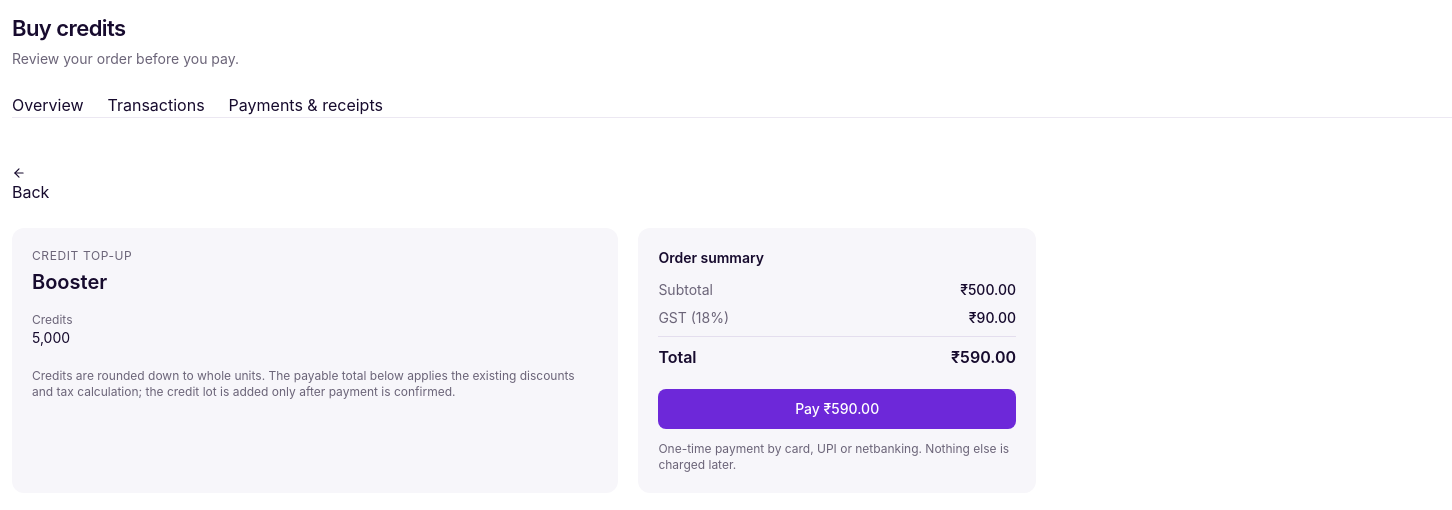
Test case: Checkout › top-up success says how many credits were added
Expected: the element with test id "checkout-totals" is shown, [638, 228, 1036, 493]
Click the button "Pay ₹590.00" at (837, 409), box [658, 389, 1016, 429]
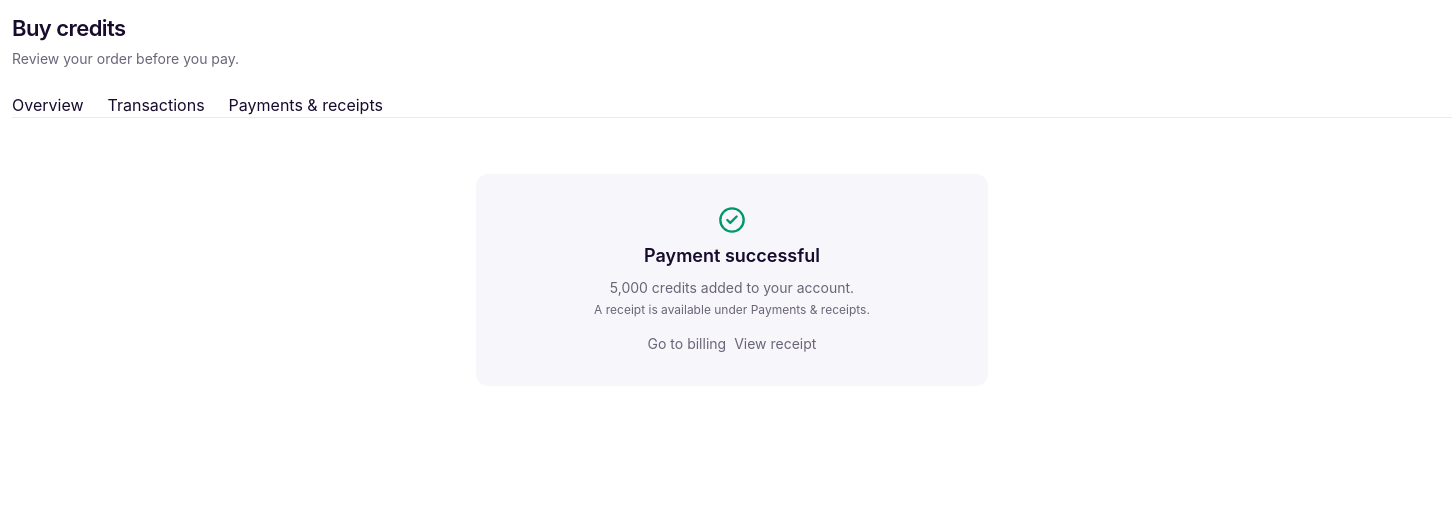
Expected: the text "5,000 credits added to your account." is shown, [594, 278, 870, 298]
